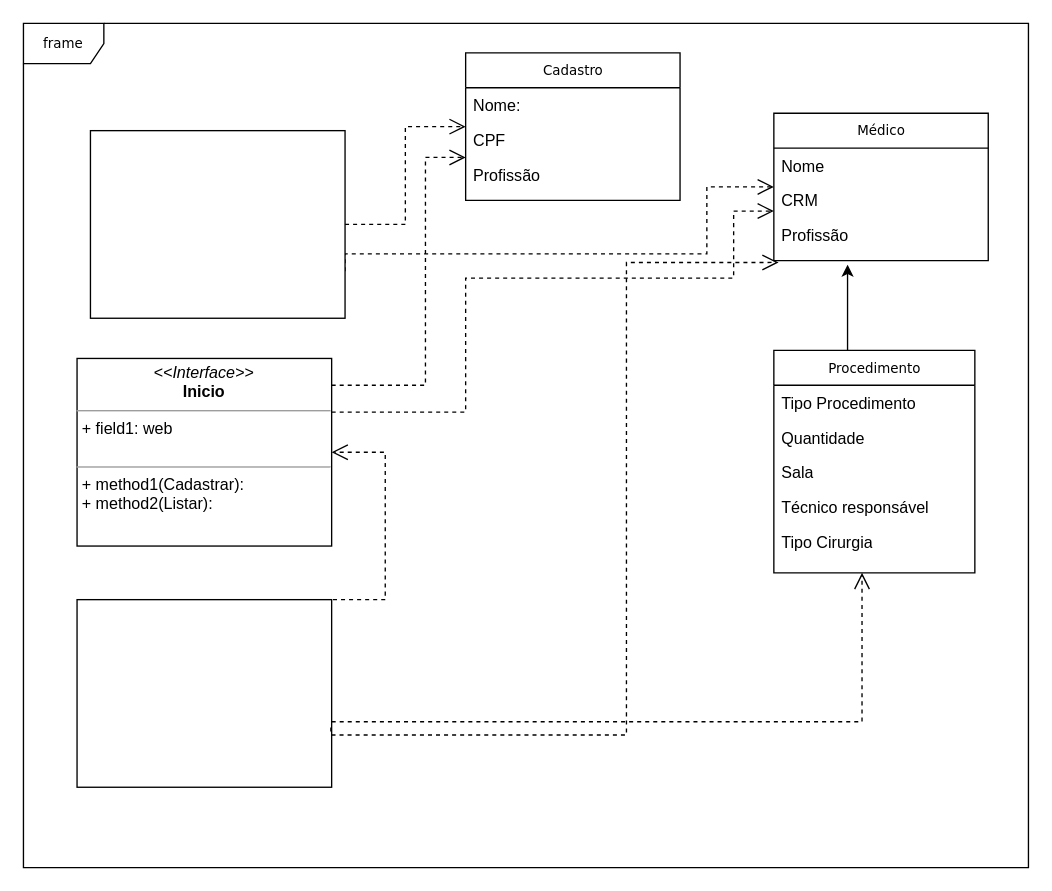
Some shapes in this 1052 by 891 pixel diagram are drawn without their labels. The centre of each missing label's shape, as x and y in pixels:
"<<Interface>> Base + field1: web + method1(Inicio):" belongs at point (217, 223).
"<<Interface>> Cadastro + field1: web + method1(Cadastrar):" belongs at point (204, 692).
